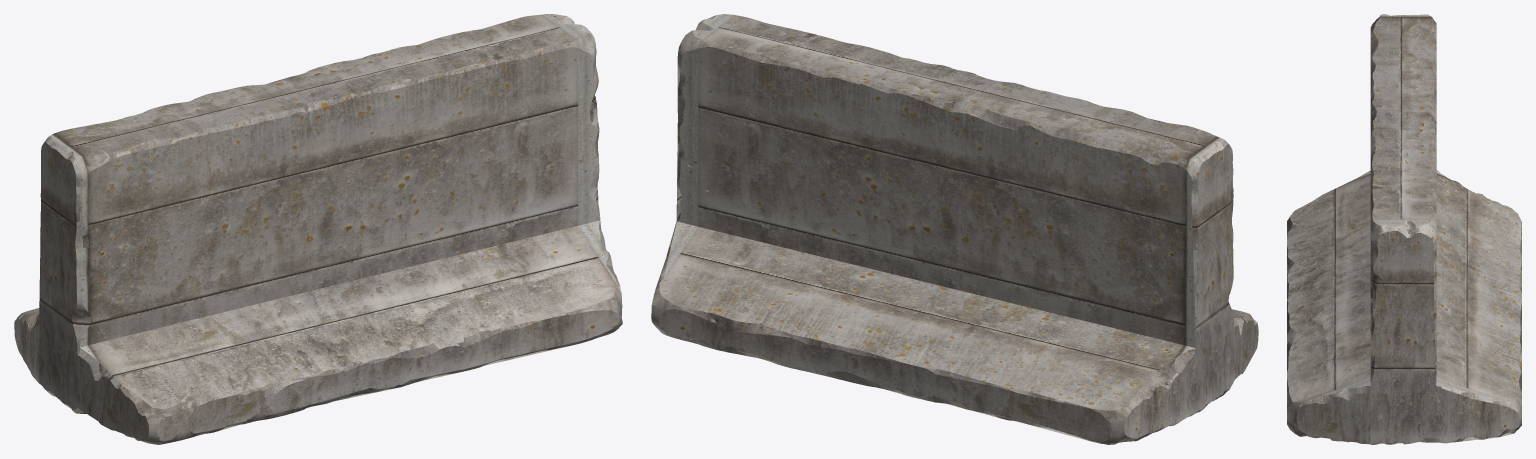
The model's file is Bet_blok_004-2.fbx.
3 views of the same model, side by side, from view 1: azimuth 30°, elevation 25°; view 2: azimuth 150°, elevation 25°; view 3: azimuth 270°, elevation 25° (orthographic). The views are drawn at different scales.
Parts seen in each view (by area): view 1: Plane.006_dmg.003; view 2: Plane.006_dmg.003; view 3: Plane.006_dmg.003.
Boxes of the visible parts, x1=… form: Plane.006_dmg.003: x1=14, y1=14, x2=622, y2=444; Plane.006_dmg.003: x1=651, y1=14, x2=1258, y2=444; Plane.006_dmg.003: x1=1287, y1=14, x2=1521, y2=444.
Size of the model in its own units: 200 by 93.81 by 91.82.
